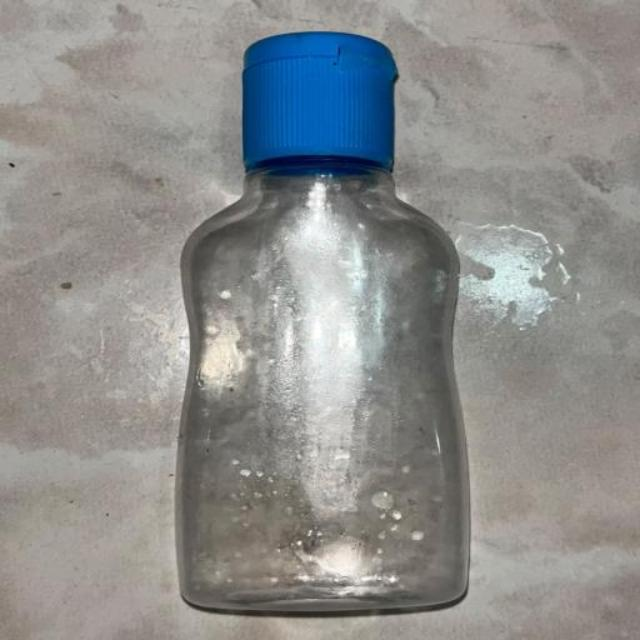HDPE: (173, 30, 536, 640)
